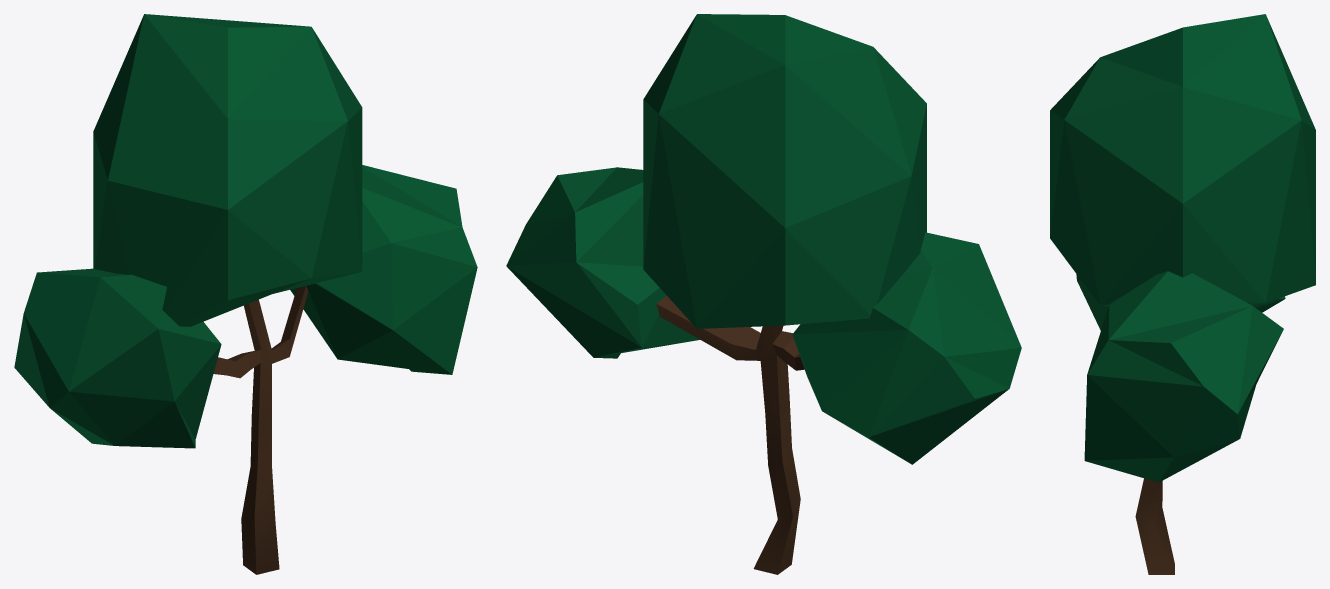
Rendered from Deci_Tree_04.fbx.
The picture shows the model from 3 angles, left to right: view 1: azimuth 30°, elevation 25°; view 2: azimuth 150°, elevation 25°; view 3: azimuth 270°, elevation 25°; orthographic projection. The views are drawn at different scales.
Visible parts, largest first — view 1: Tree4_Canopy, Tree4_Canopy2, Tree4_Canopy3, Tree4; view 2: Tree4_Canopy, Tree4_Canopy2, Tree4_Canopy3, Tree4; view 3: Tree4_Canopy, Tree4_Canopy3, Tree4, Tree4_Canopy2.
Boxes of the visible parts, x1,y1,x2,y2 form: Tree4_Canopy: [93, 14, 362, 326]; Tree4_Canopy2: [14, 268, 221, 448]; Tree4_Canopy3: [290, 165, 477, 374]; Tree4: [213, 286, 308, 574]; Tree4_Canopy: [643, 14, 926, 328]; Tree4_Canopy2: [792, 232, 1021, 464]; Tree4_Canopy3: [506, 167, 699, 358]; Tree4: [656, 295, 804, 574]; Tree4_Canopy: [1050, 14, 1315, 306]; Tree4_Canopy3: [1084, 271, 1283, 482]; Tree4: [1135, 478, 1174, 574]; Tree4_Canopy2: [1076, 274, 1285, 330].
Size of the model in its own units: 222 by 263 by 119.
